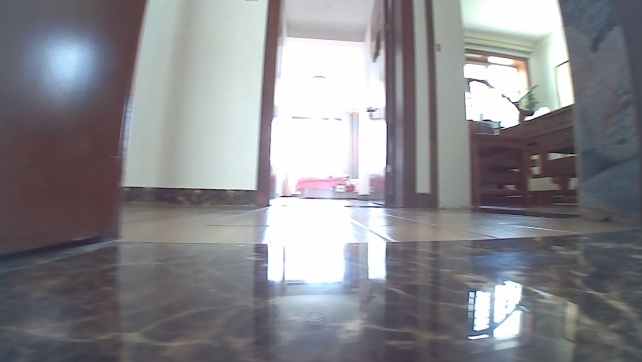door: (357, 0, 419, 210)
